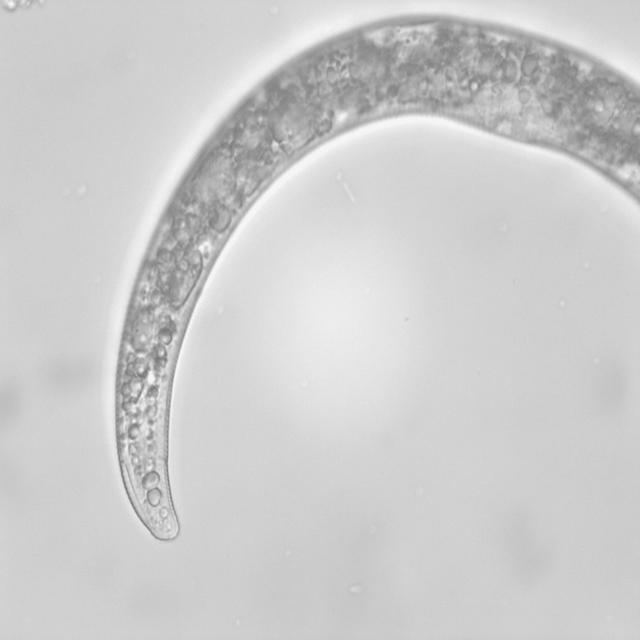Helicotylenchus: (108, 15, 640, 548)
